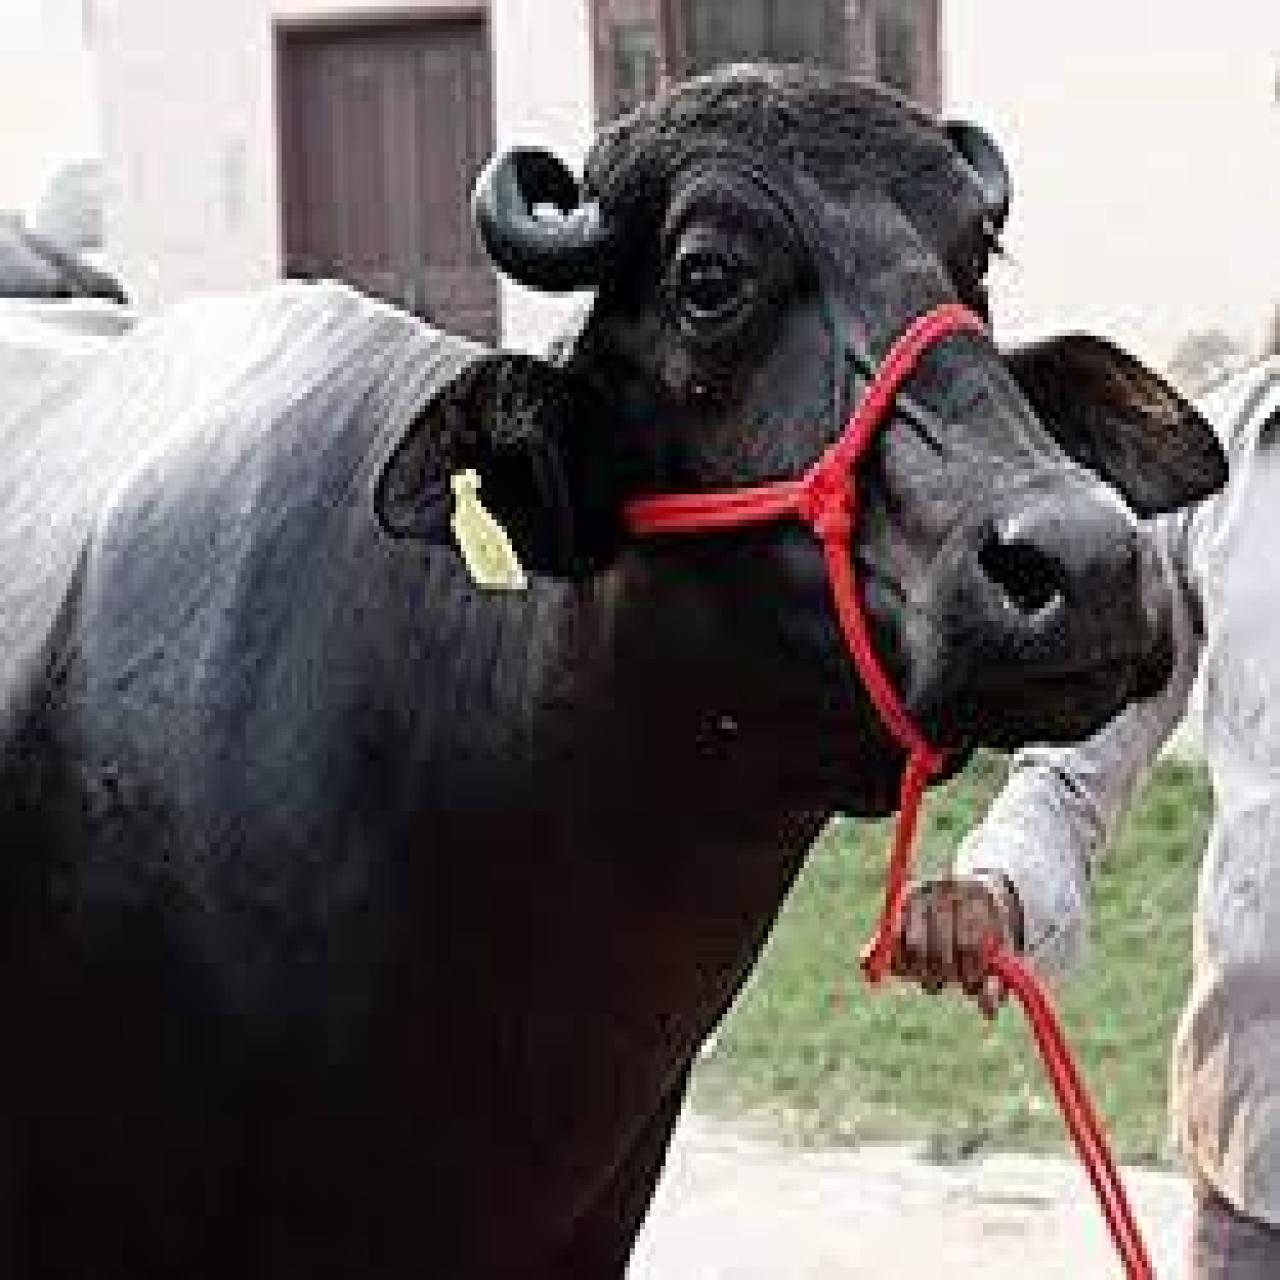cow: (0, 63, 1198, 1280)
